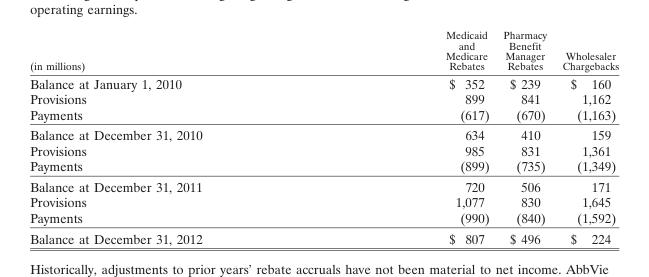table: (29, 28, 618, 245)
table column: (29, 28, 323, 245), (323, 28, 495, 245), (553, 28, 618, 245), (495, 28, 553, 245)
table column header: (29, 28, 618, 73)
table row: (29, 28, 618, 73), (29, 157, 618, 176), (29, 106, 618, 124), (29, 124, 618, 142), (29, 176, 618, 194), (29, 209, 618, 227), (29, 227, 618, 245), (29, 73, 618, 90), (29, 90, 618, 106), (29, 142, 618, 157), (29, 194, 618, 209)
